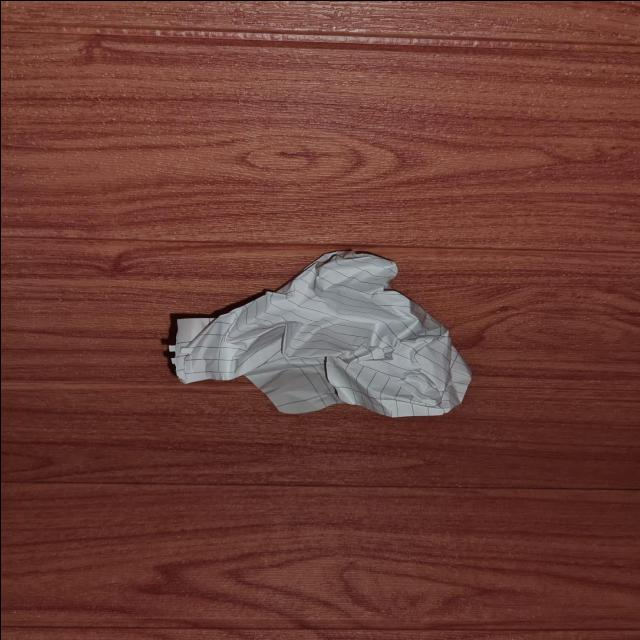kertas: (167, 250, 468, 423)
